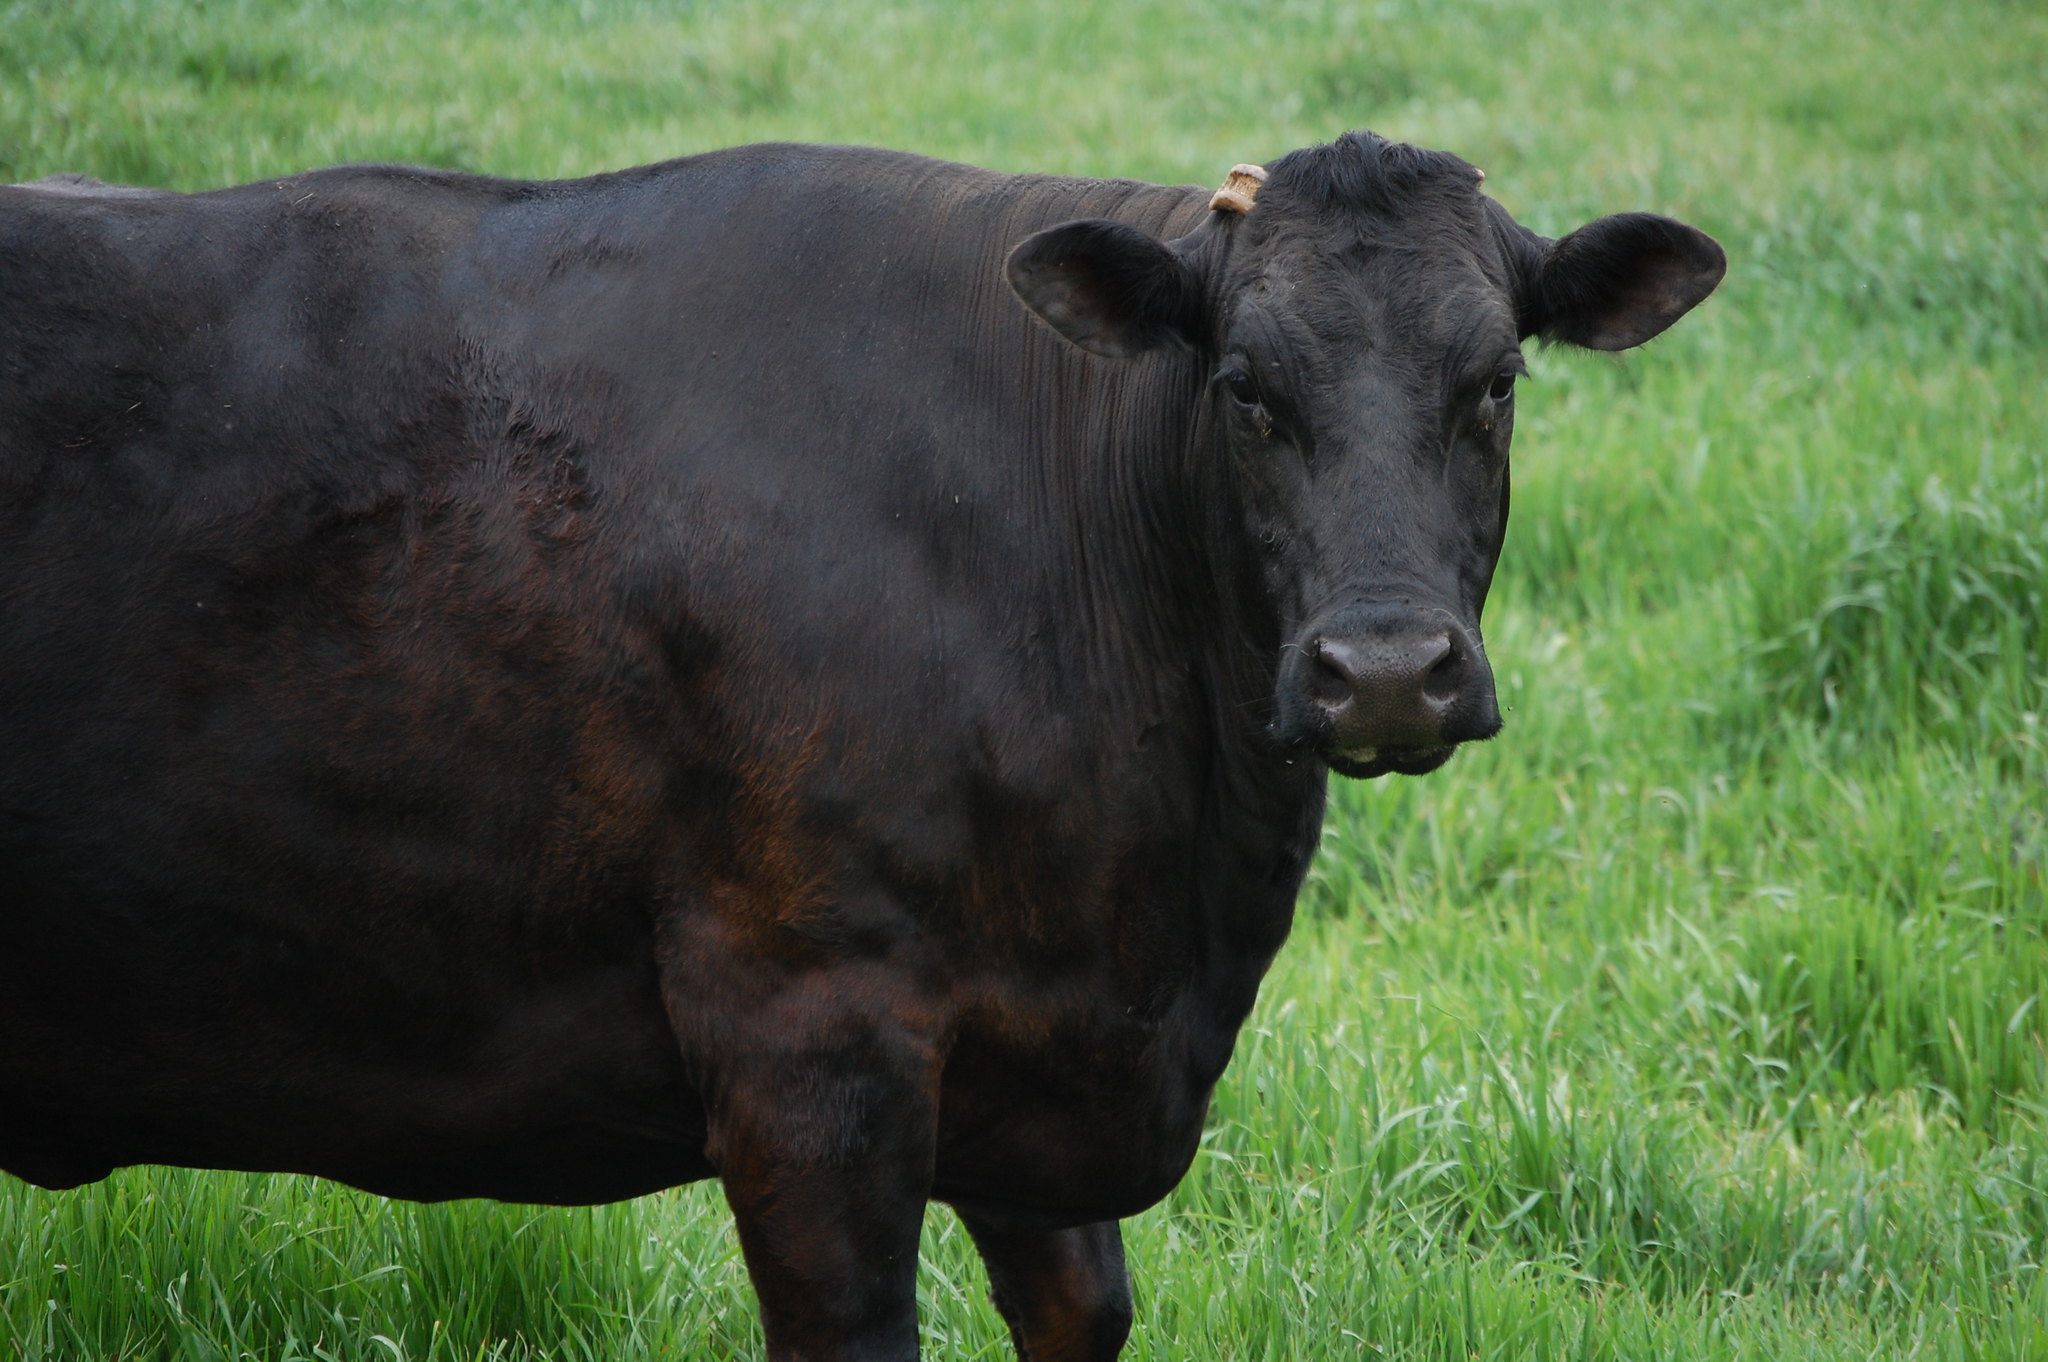cow: (2, 111, 1597, 1335)
